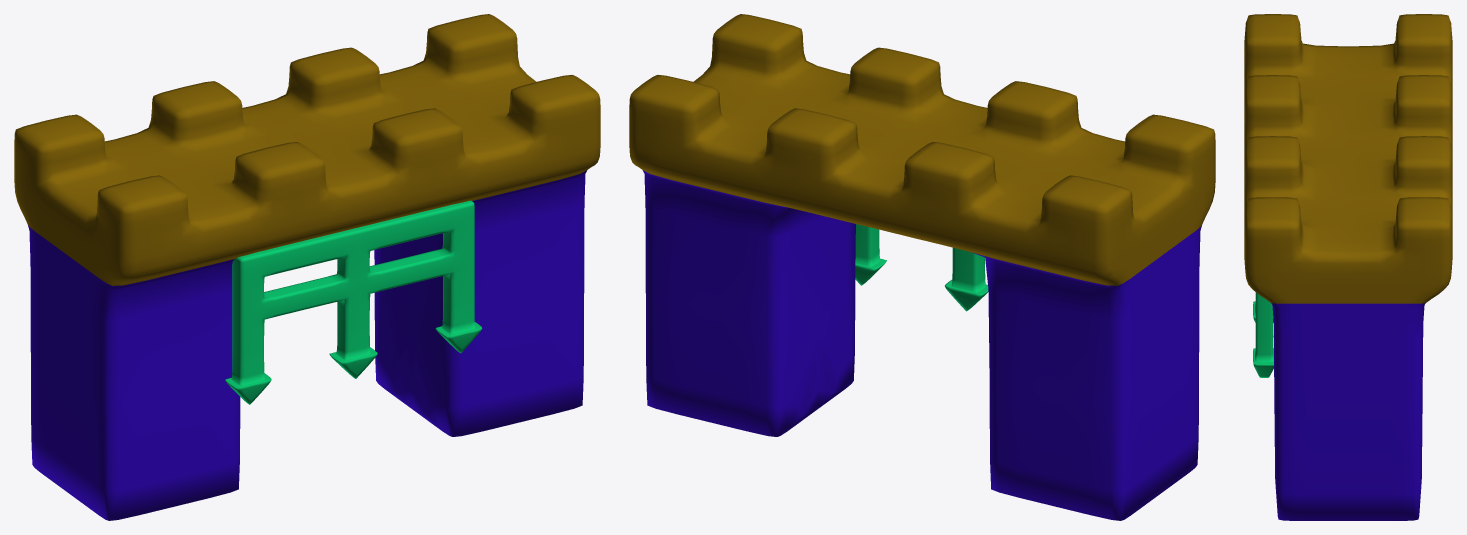
Rendered from casle_door.fbx.
The picture shows the model from 3 angles, left to right: view 1: azimuth 30°, elevation 25°; view 2: azimuth 150°, elevation 25°; view 3: azimuth 270°, elevation 25°; orthographic projection. The views are drawn at different scales.
Parts seen in each view (by area): view 1: Box007; view 2: Box007; view 3: Box007.
Part boxes in pixels (x1,y1,x2,y2): Box007: (14,14,600,520); Box007: (629,14,1215,520); Box007: (1244,14,1452,520).
Size of the model in its own units: 126 by 51.87 by 82.9.
